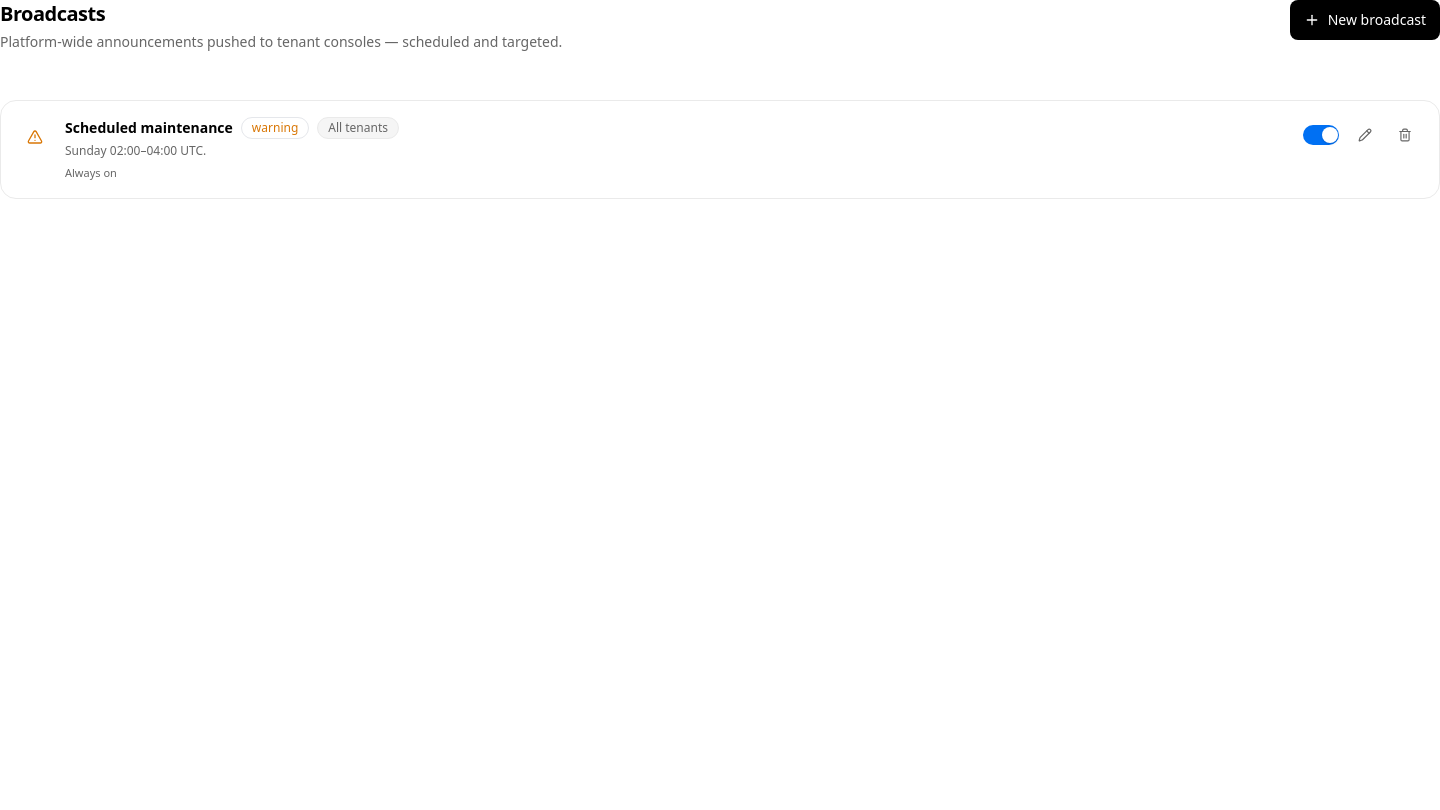
Test: broadcasts › confirms before deleting
What coordinates should you click on to do the following:
click the button named "delete"
I would click on:
 (1405, 135)
Its box is [1387, 117, 1423, 153].
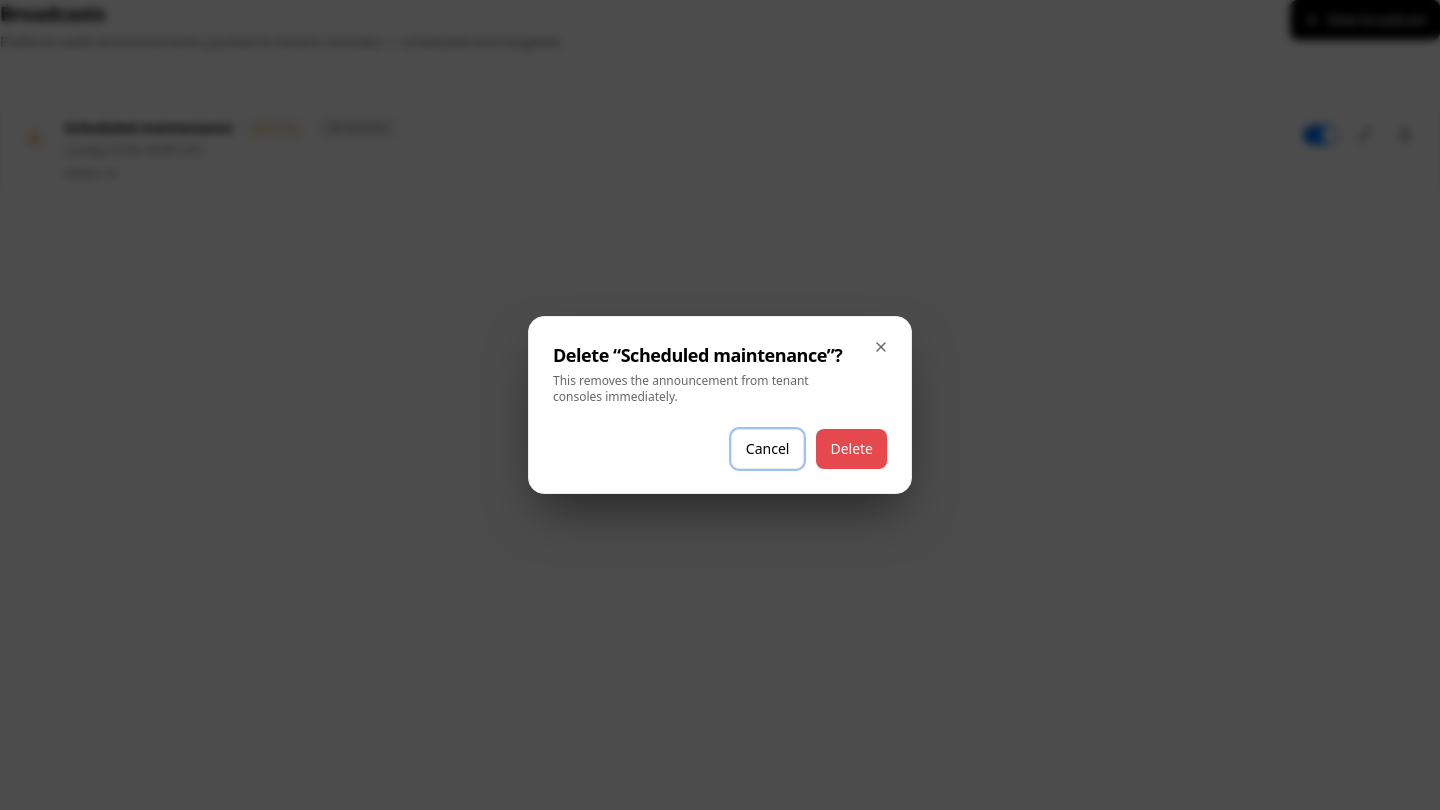
Expected: the text "removes the announcement" is shown, [553, 372, 809, 405]
